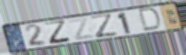1: (117, 11, 132, 35)
2: (24, 24, 48, 48)
D: (138, 7, 163, 33)
Z: (88, 12, 121, 40), (43, 18, 74, 45), (67, 17, 96, 42)
